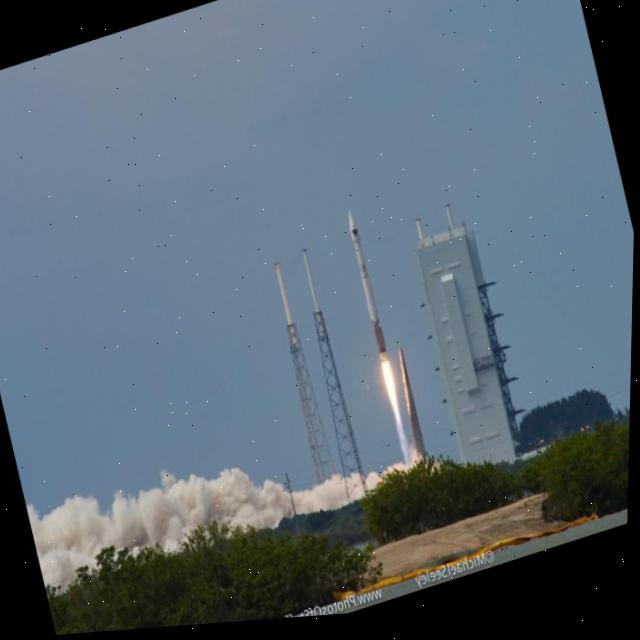missile: (341, 209, 398, 367)
